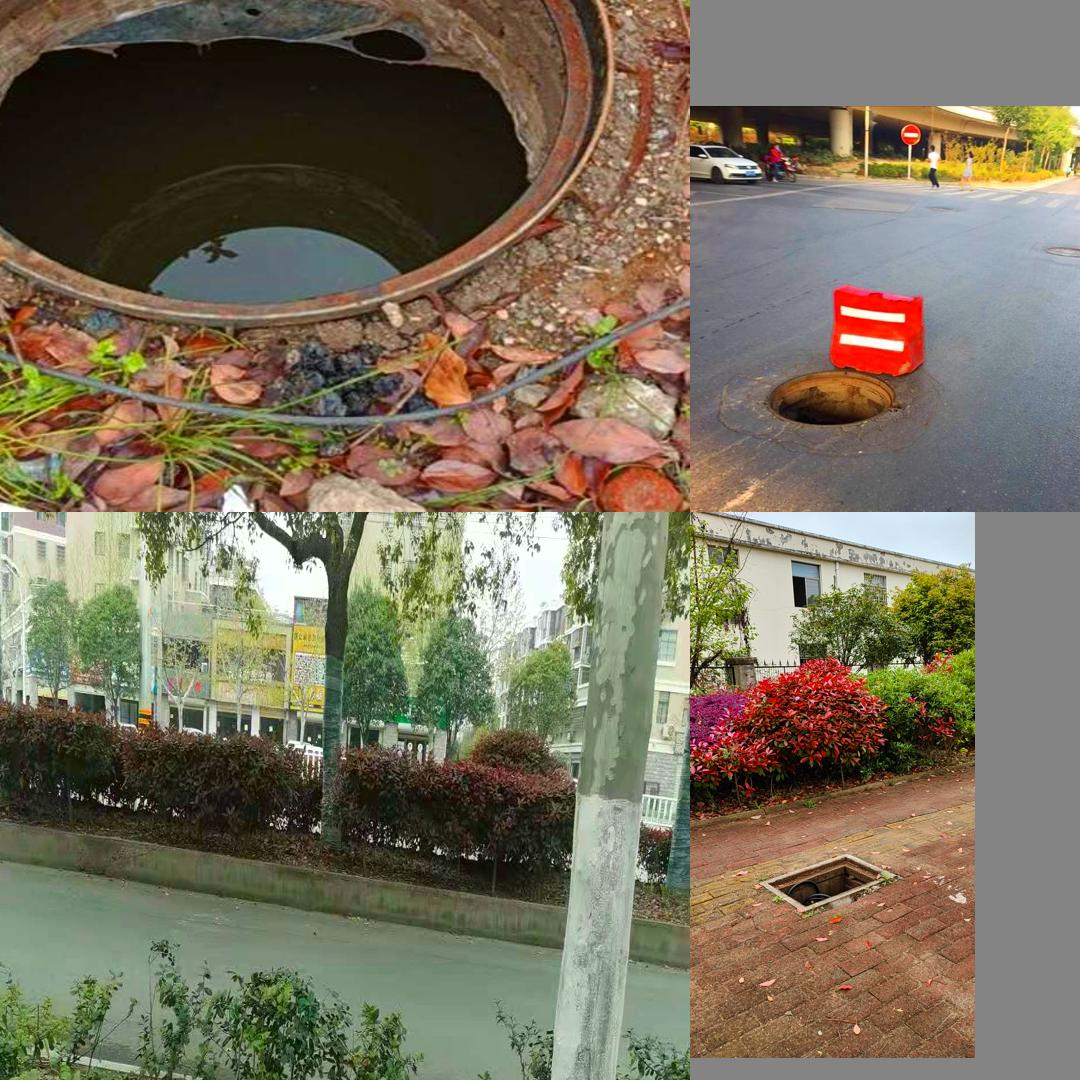lose: (0, 0, 625, 332), (722, 347, 924, 466), (749, 843, 900, 917)
